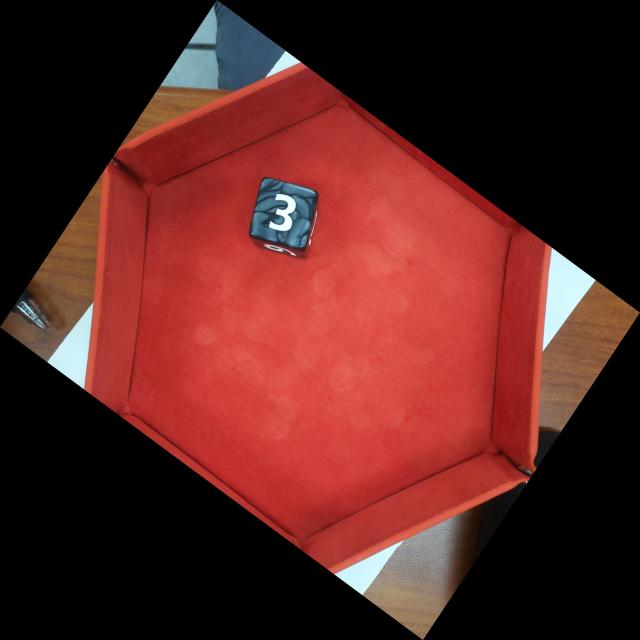dice: (253, 179, 318, 245)
